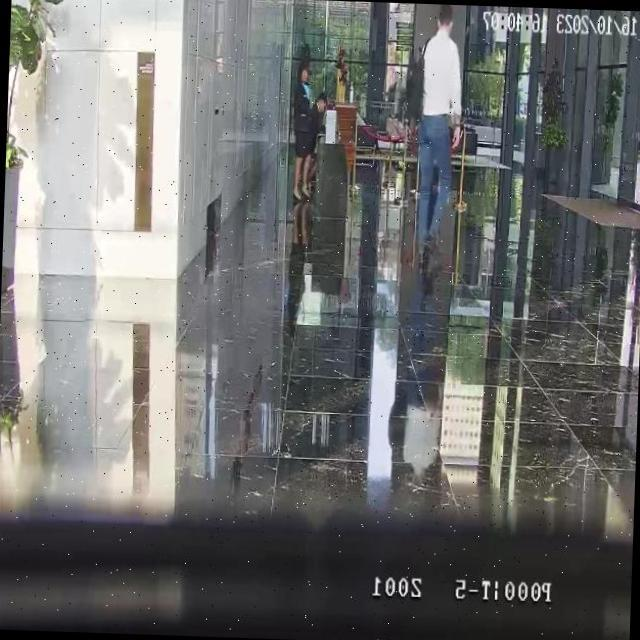person: (413, 4, 467, 258), (290, 60, 316, 202), (308, 94, 328, 154)
